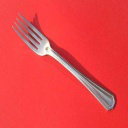fork: (5, 11, 125, 112)
